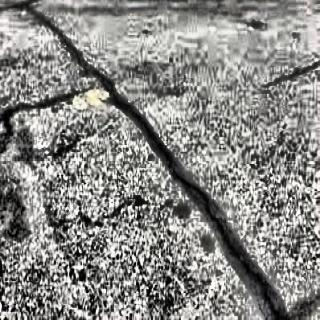crack: (119, 92, 248, 304), (4, 72, 88, 132), (15, 3, 90, 64), (262, 59, 320, 98)
